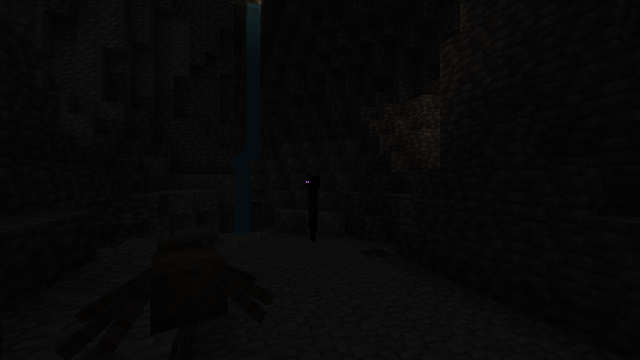araignees: (78, 226, 246, 357)
endermens: (304, 173, 321, 242)
